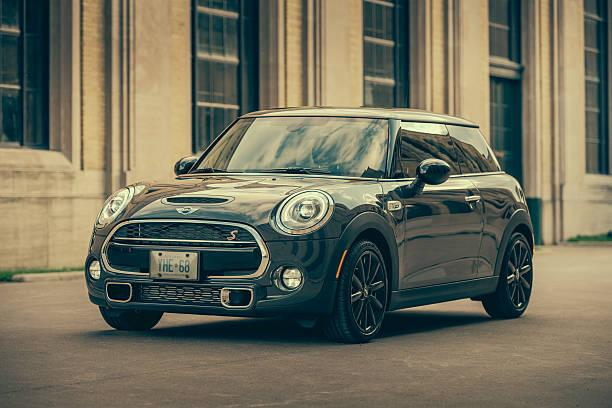mini: (164, 200, 210, 223)
